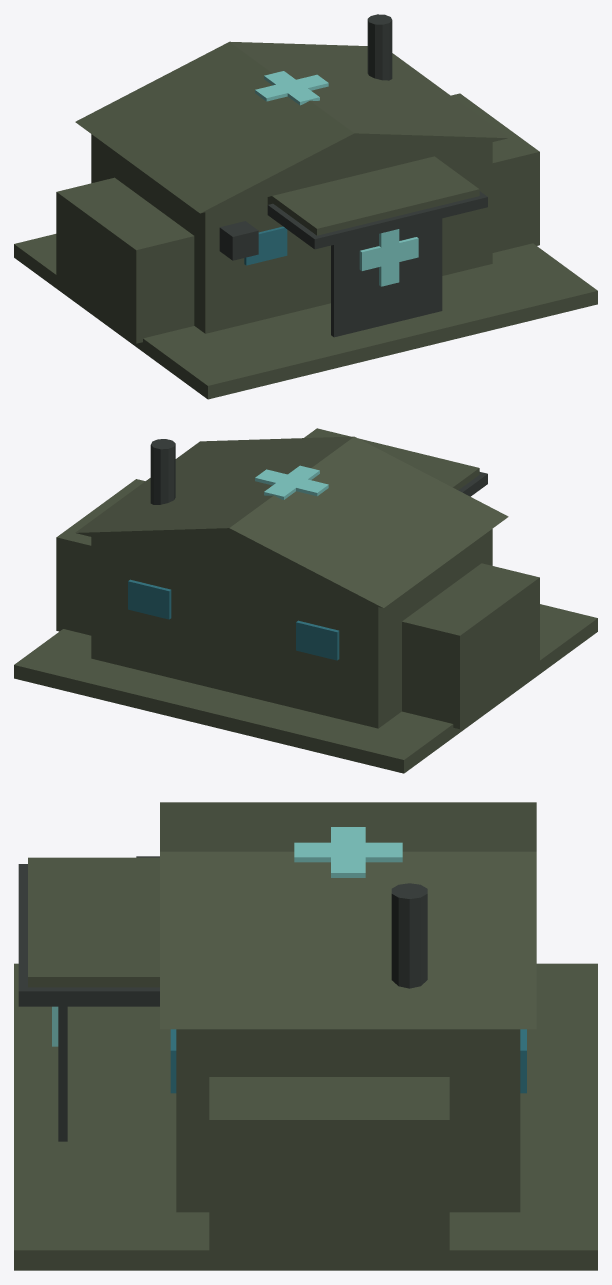
The model's file is Bastion_MASH_Base.obj.
The picture shows the model from 3 angles, top to bottom: view 1: azimuth 30°, elevation 25°; view 2: azimuth 150°, elevation 25°; view 3: azimuth 270°, elevation 25°; orthographic projection. The views are drawn at different scales.
Visible parts, largest first — view 1: Bastion_MASH_Base; view 2: Bastion_MASH_Base; view 3: Bastion_MASH_Base.
Part boxes in pixels (<box>): Bastion_MASH_Base: <box>14,14,597,399</box>; Bastion_MASH_Base: <box>14,428,597,773</box>; Bastion_MASH_Base: <box>14,802,597,1270</box>.
Bounding box in the file's own units: 7.45 × 3.7 × 6.2.
1 material, 1 textured.
